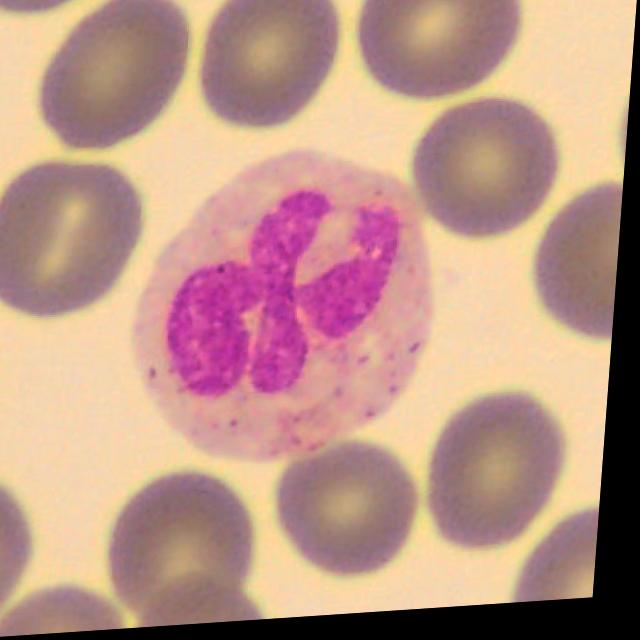Neutrofilo segmentado: (135, 154, 441, 469)
